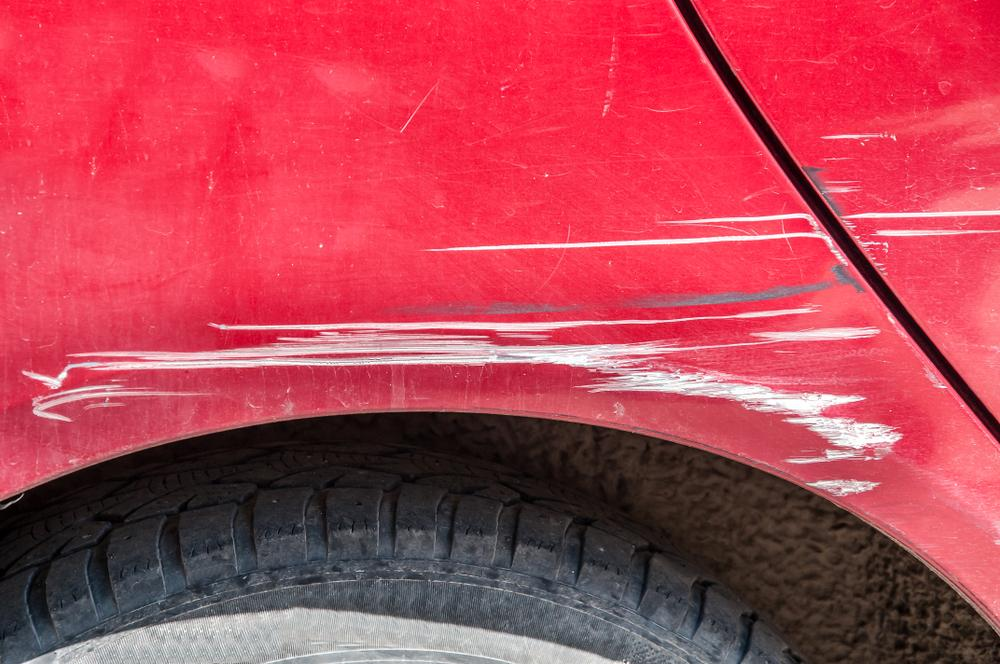scratch: (21, 204, 904, 499), (804, 122, 1000, 266)
